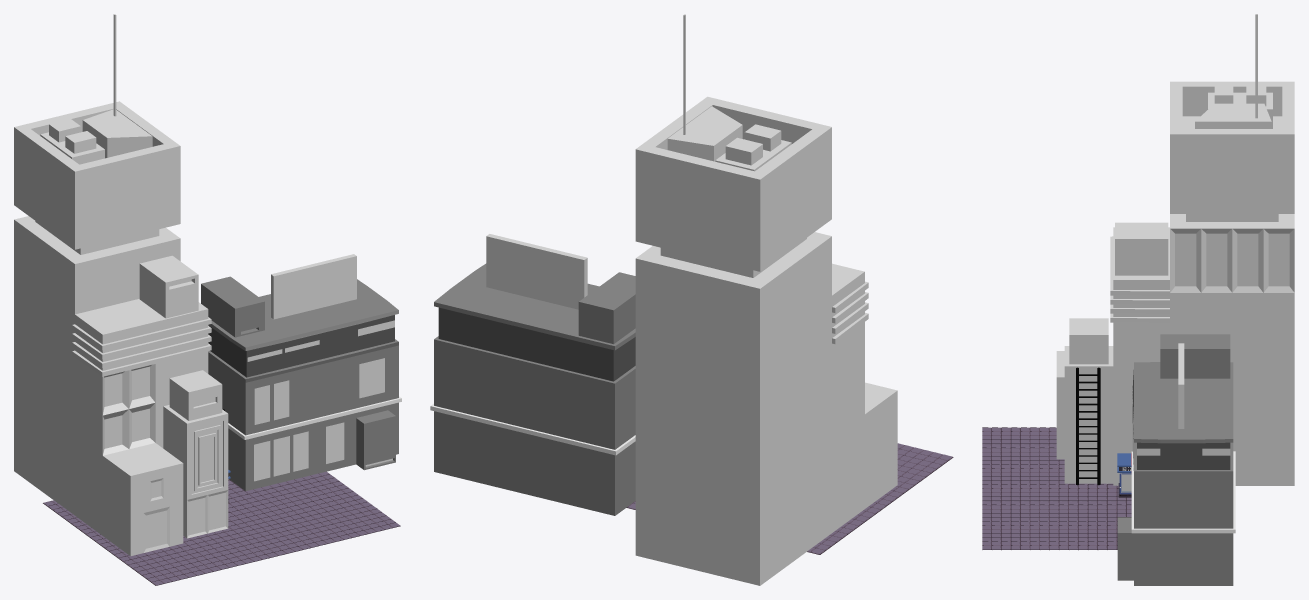
The model's file is VendingMenu.fbx.
3 views of the same model, side by side, from view 1: azimuth 30°, elevation 25°; view 2: azimuth 150°, elevation 25°; view 3: azimuth 270°, elevation 25° (orthographic). The views are drawn at different scales.
Parts seen in each view (by area): view 1: Plane.005, Plane.006, Plane.003, TrotoarJepang.060; view 2: Plane.005, Plane.003, Plane.006, TrotoarJepang.060; view 3: Plane.005, Plane.003, Plane.006, TrotoarJepang.060, Cylinder, Cube.019.
Part boxes in pixels (<box>): Plane.005: <box>14,14,204,515</box>; Plane.006: <box>72,255,228,556</box>; Plane.003: <box>201,254,401,491</box>; TrotoarJepang.060: <box>43,471,400,585</box>; Plane.005: <box>635,14,851,585</box>; Plane.003: <box>430,234,635,515</box>; Plane.006: <box>832,264,897,532</box>; TrotoarJepang.060: <box>626,443,953,554</box>; Plane.005: <box>1113,14,1294,485</box>; Plane.003: <box>1117,334,1235,585</box>; Plane.006: <box>1056,222,1169,485</box>; TrotoarJepang.060: <box>982,427,1131,550</box>; Cylinder: <box>1076,367,1100,485</box>; Cube.019: <box>1117,453,1131,497</box>.
Bounding box in the file's own units: 465 × 626 × 385.
